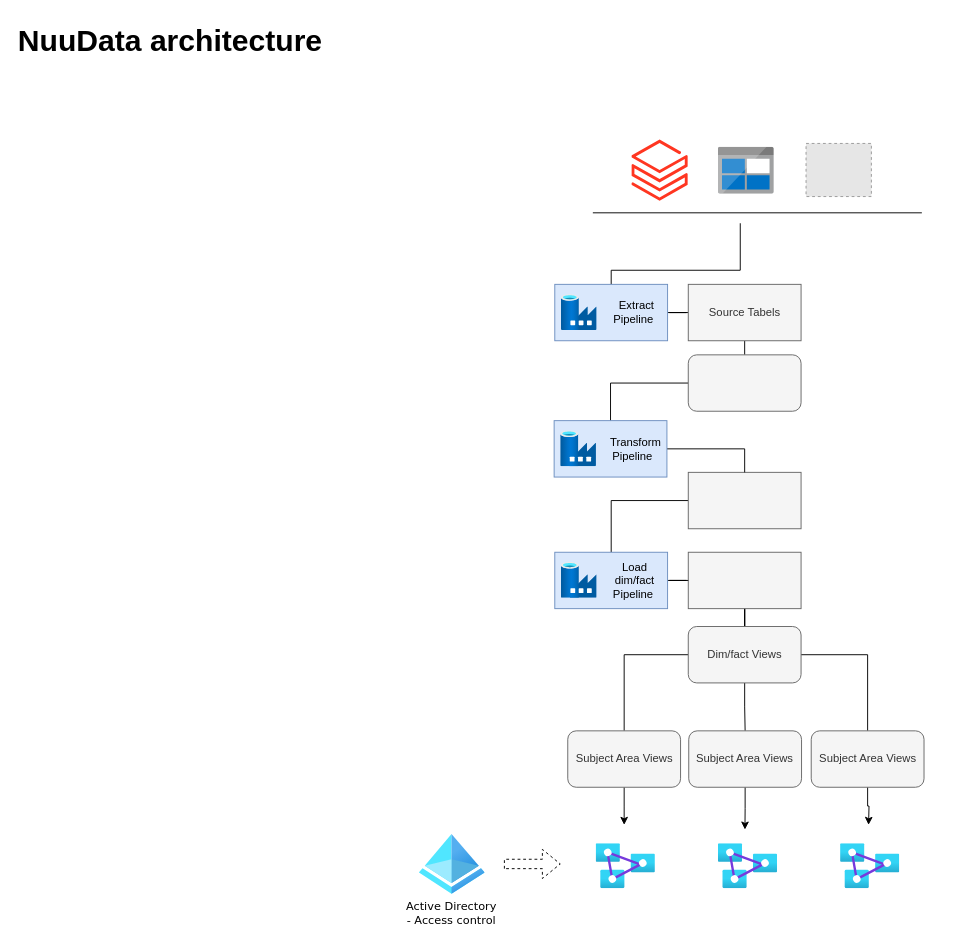
Image size: 980x943. Some labels were removed from this diagram. Grey dashed boxes stand in for pictures. The centre of each missing label's shape, as x and y in pixels:
"Dim and fact Tabels" goes at (744,580).
"Source Views" goes at (744,382).
"Stage Tabels" goes at (744,500).
